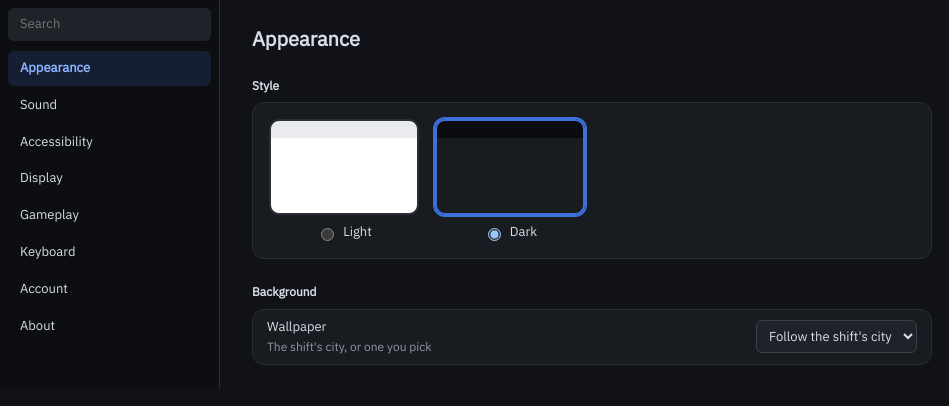
Test: SettingsApp › search filters the pages
Type "volume" into the search field named "Search settings" at coordinates (110, 24), box [8,8,211,41]
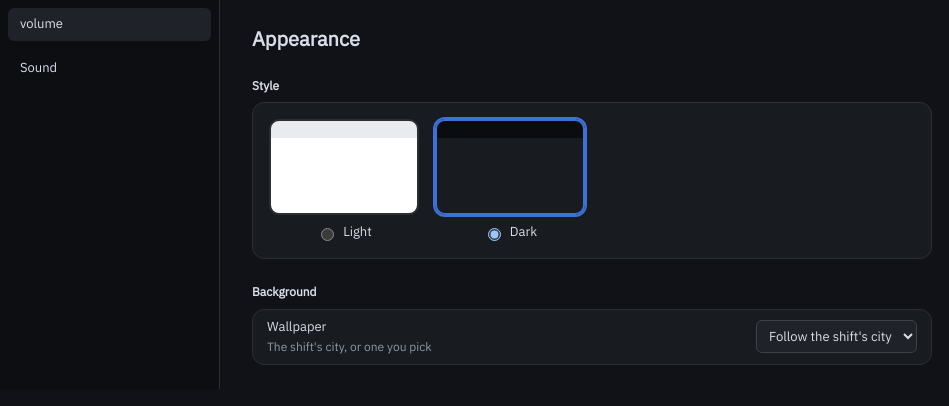
Check: the buttons read "Sound", in this order, box [8,51,211,86]
Replace the text in the search field named "Search settings" with "zzz" at coordinates (110, 24), box [8,8,211,41]
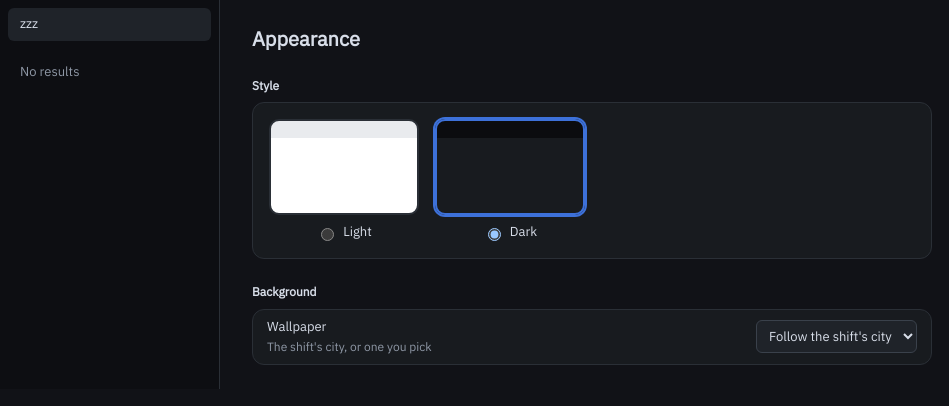
Check: the text "No results" is shown, box [20,63,80,80]
